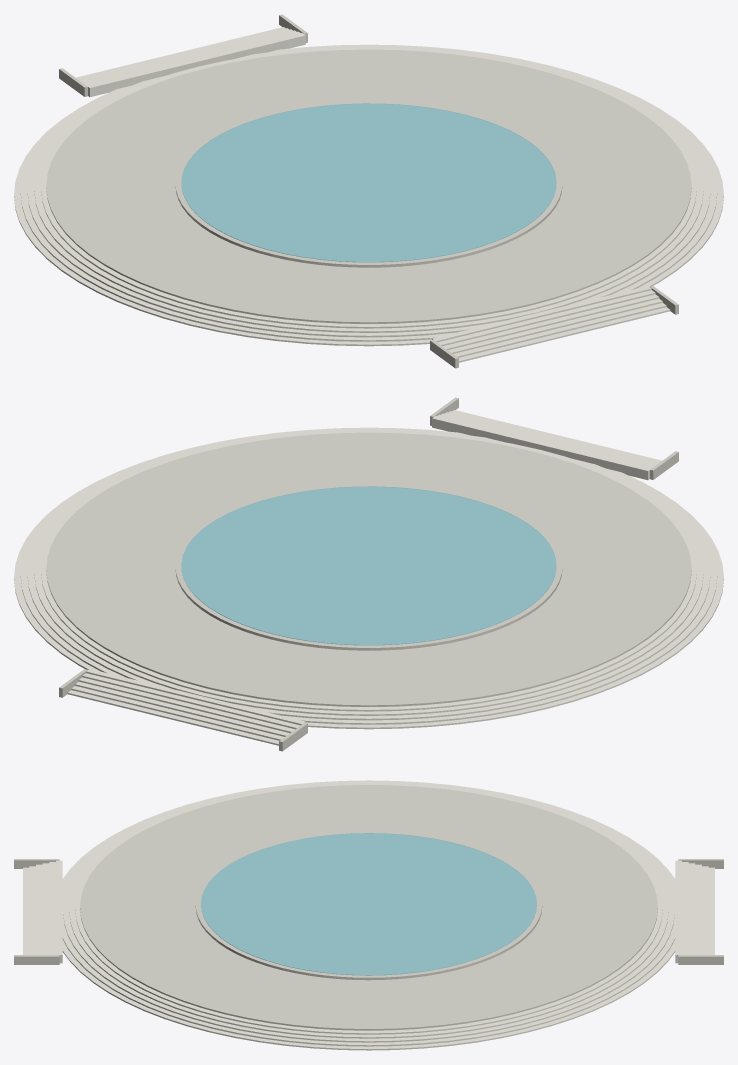
Rendered from Scott_Fountain_Terraces_Study.glb.
3 renders of one model, top to bottom at view 1: azimuth 30°, elevation 25°; view 2: azimuth 150°, elevation 25°; view 3: azimuth 270°, elevation 25°, orthographic. The views are drawn at different scales.
Visible parts, largest first — view 1: Terrace/Coping__marbleEdge, Terrace/WaterPlanePreview__water, Terrace/ConcentricTreads__marble, Terrace/FrontApproachSteps__marble, Terrace/RaisedBasinPlaceholder__marbleEdge, Terrace/StairSideParapets__marbleEdge; view 2: Terrace/Coping__marbleEdge, Terrace/WaterPlanePreview__water, Terrace/ConcentricTreads__marble, Terrace/FrontApproachSteps__marble, Terrace/RaisedBasinPlaceholder__marbleEdge, Terrace/StairSideParapets__marbleEdge; view 3: Terrace/Coping__marbleEdge, Terrace/WaterPlanePreview__water, Terrace/ConcentricTreads__marble, Terrace/FrontApproachSteps__marble, Terrace/RaisedBasinPlaceholder__marbleEdge, Terrace/StairSideParapets__marbleEdge.
Part boxes in pixels (x1=…): Terrace/Coping__marbleEdge: x1=46, y1=49, x2=691, y2=323; Terrace/WaterPlanePreview__water: x1=181, y1=103, x2=556, y2=262; Terrace/ConcentricTreads__marble: x1=14, y1=44, x2=723, y2=346; Terrace/FrontApproachSteps__marble: x1=76, y1=27, x2=670, y2=362; Terrace/RaisedBasinPlaceholder__marbleEdge: x1=175, y1=101, x2=562, y2=267; Terrace/StairSideParapets__marbleEdge: x1=59, y1=14, x2=678, y2=368; Terrace/Coping__marbleEdge: x1=46, y1=432, x2=691, y2=706; Terrace/WaterPlanePreview__water: x1=181, y1=486, x2=556, y2=645; Terrace/ConcentricTreads__marble: x1=14, y1=427, x2=723, y2=729; Terrace/FrontApproachSteps__marble: x1=67, y1=410, x2=661, y2=745; Terrace/RaisedBasinPlaceholder__marbleEdge: x1=175, y1=484, x2=562, y2=650; Terrace/StairSideParapets__marbleEdge: x1=59, y1=397, x2=678, y2=751; Terrace/Coping__marbleEdge: x1=80, y1=785, x2=657, y2=1030; Terrace/WaterPlanePreview__water: x1=201, y1=833, x2=536, y2=975; Terrace/ConcentricTreads__marble: x1=62, y1=780, x2=675, y2=1050; Terrace/FrontApproachSteps__marble: x1=23, y1=860, x2=714, y2=963; Terrace/RaisedBasinPlaceholder__marbleEdge: x1=195, y1=831, x2=542, y2=980; Terrace/StairSideParapets__marbleEdge: x1=14, y1=859, x2=723, y2=964.
Size of the model in its own units: 62.6 by 1.31 by 69.9.
